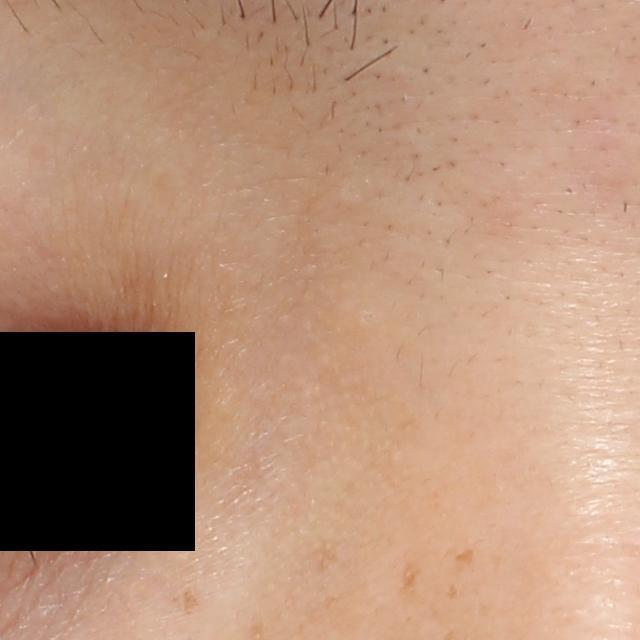melasma: (400, 554, 423, 594), (171, 584, 201, 614), (452, 546, 477, 567), (443, 581, 462, 599)
